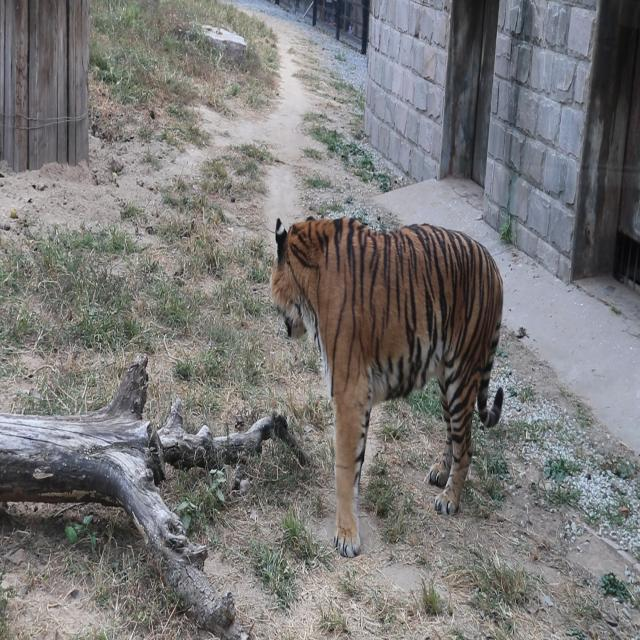Tiger: (270, 180, 521, 570)
